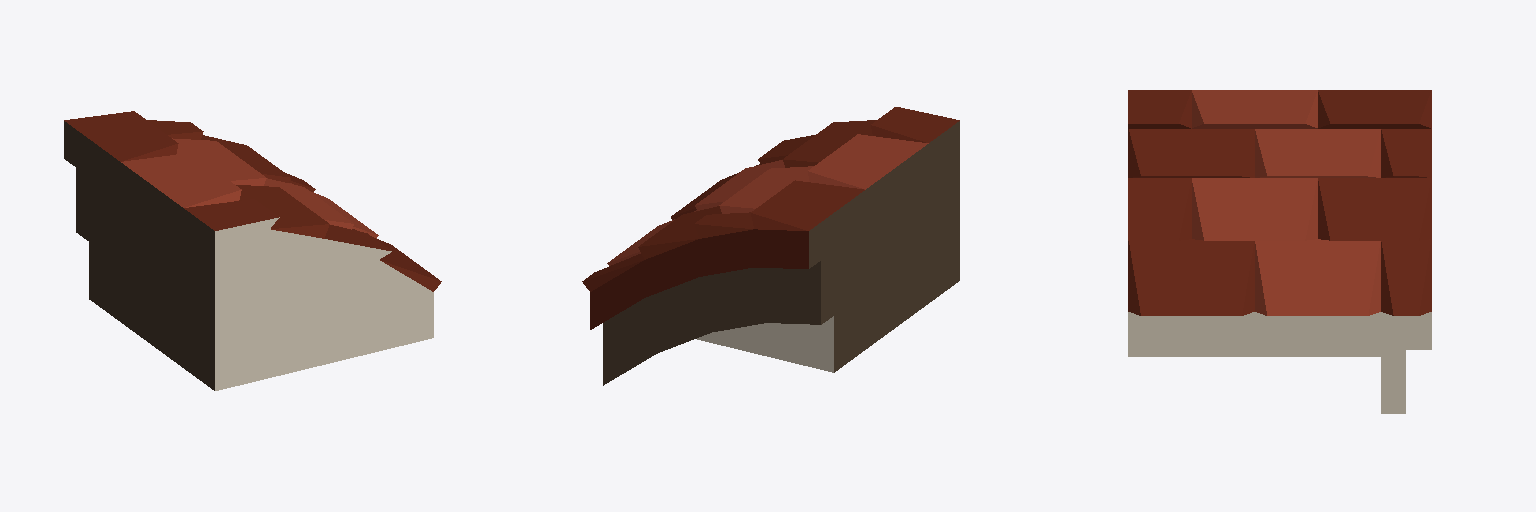
The model's file is Roof_Convex_Side_Edge.obj.
3 renders of one model, left to right at view 1: azimuth 30°, elevation 25°; view 2: azimuth 150°, elevation 25°; view 3: azimuth 270°, elevation 25°, orthographic.
Parts seen in each view (by area): view 1: object1; view 2: object1; view 3: object1.
Boxes of the visible parts, x1=… form: object1: x1=64, y1=111, x2=441, y2=390; object1: x1=582, y1=107, x2=959, y2=385; object1: x1=1128, y1=90, x2=1431, y2=413.
Size of the model in its own units: 1.07 by 0.9495 by 1.2.